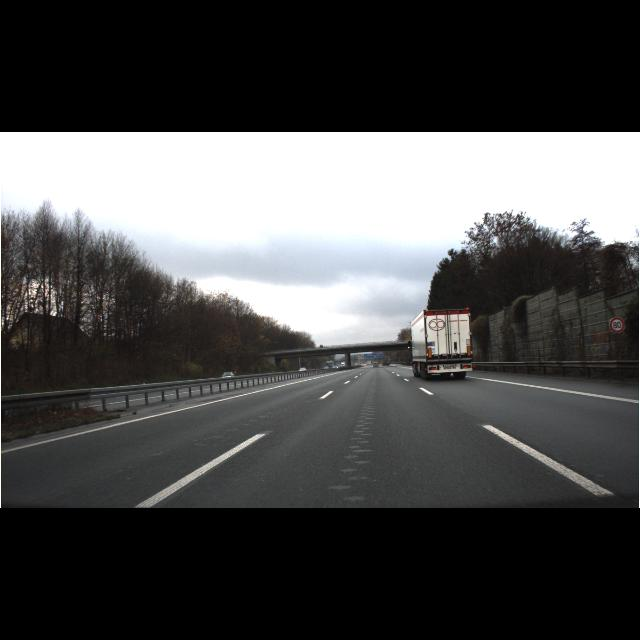prohibitory: (608, 316, 624, 334)
